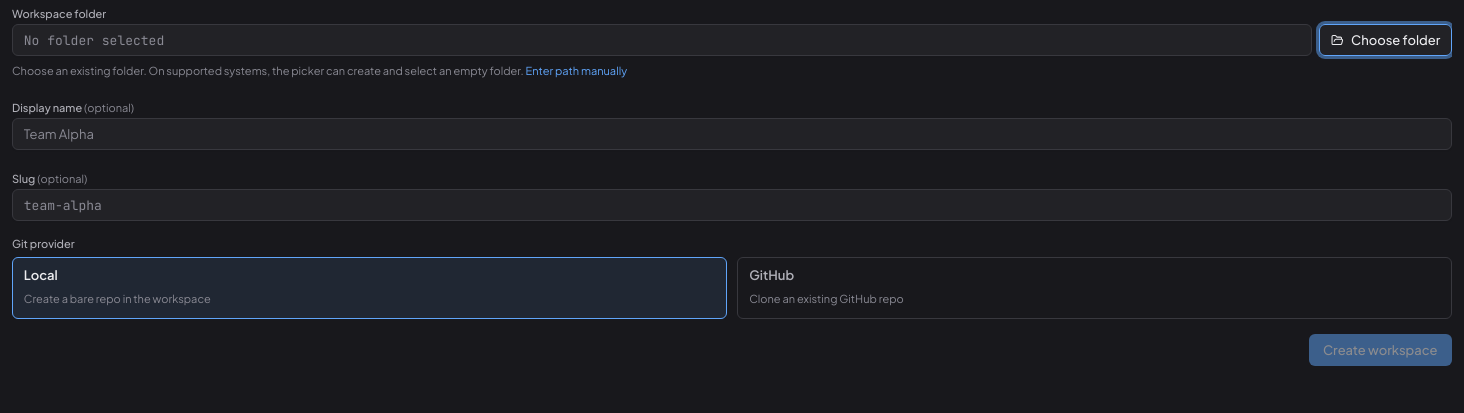
CreateWorkspaceForm workspace folder picker › recovers from an unexpected picker rejection
This screenshot has width=1464, height=413.
Click the button with test id "ws-folder-picker". click: {"x": 1386, "y": 40}
box: top-left (1319, 24), bottom-right (1452, 56)
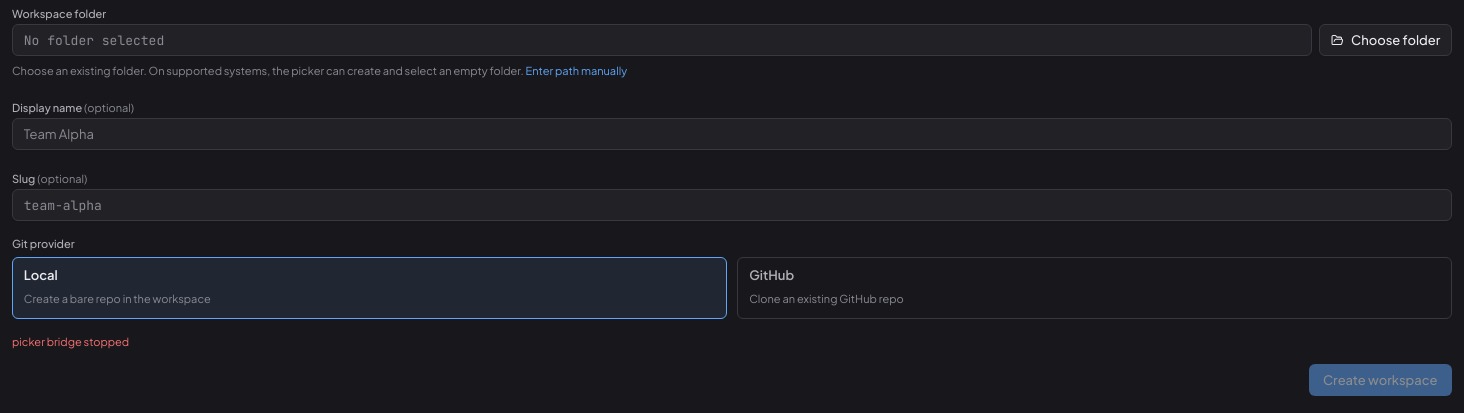
expect the text with test id "ws-create-error" reads "picker bridge stopped": met, box top-left (12, 335), bottom-right (129, 348)
